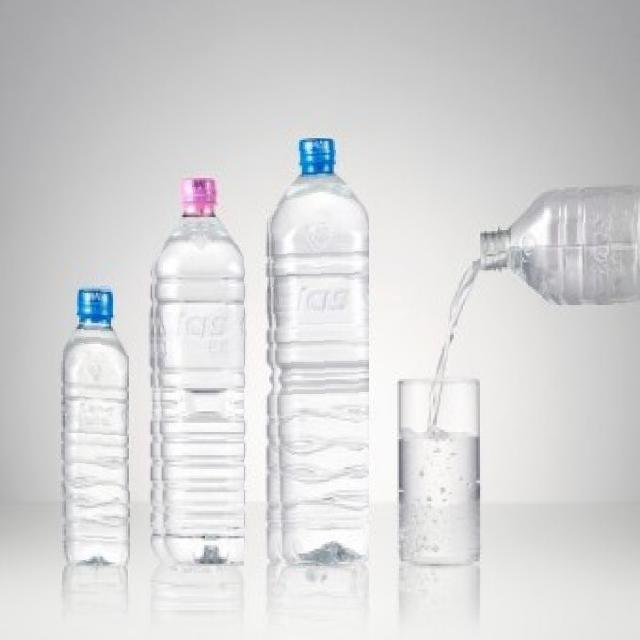plastic bottle: (265, 138, 369, 564), (148, 176, 244, 566), (58, 284, 130, 566), (480, 192, 640, 305)
